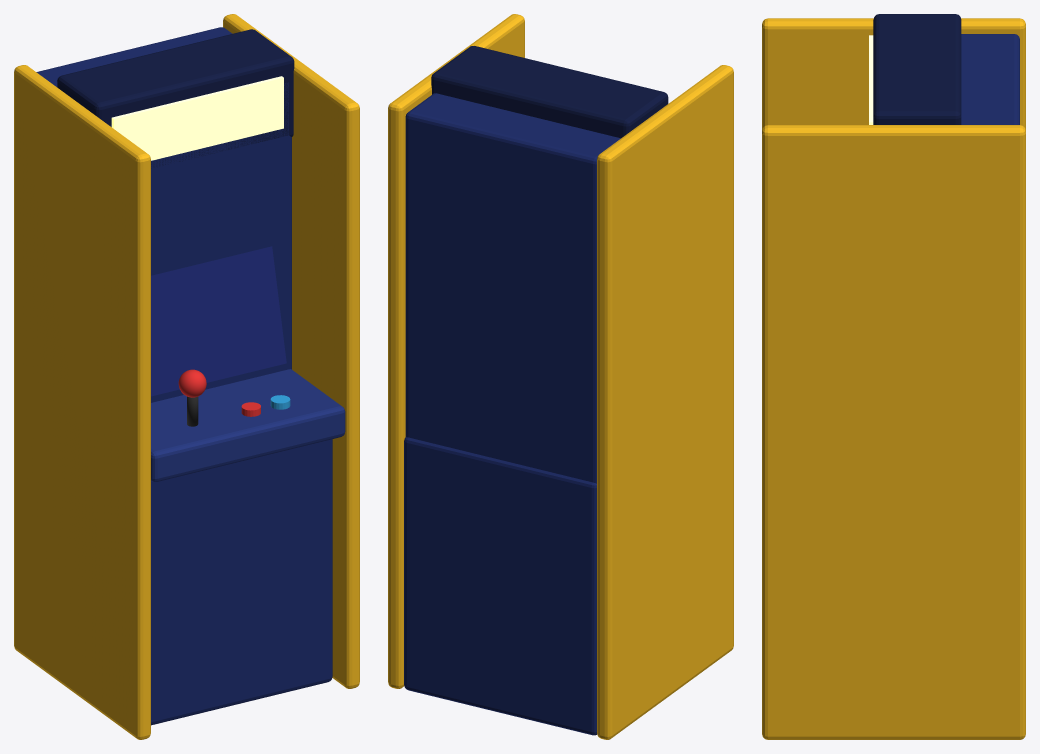
File: maquina_arcade.glb
3 views of the same model, side by side, from view 1: azimuth 30°, elevation 25°; view 2: azimuth 150°, elevation 25°; view 3: azimuth 270°, elevation 25° (orthographic). The views are drawn at different scales.
Visible parts, largest first — view 1: Cube, Cube.002, Cube.001, Cube.003, Plane, Cube.004, Cube.005, Cube.006, Sphere; view 2: Cube, Cube.003, Cube.002, Cube.001, Cube.005; view 3: Cube.001, Cube, Cube.005, Cube.003, Cube.006.
Boxes of the visible parts, x1,y1,x2,y2 form: Cube: (14, 65, 150, 739); Cube.002: (151, 439, 332, 725); Cube.001: (223, 14, 359, 688); Cube.003: (36, 27, 291, 402); Plane: (151, 246, 286, 396); Cube.004: (151, 369, 345, 481); Cube.005: (57, 29, 294, 168); Cube.006: (111, 76, 283, 160); Sphere: (178, 369, 206, 397); Cube: (597, 65, 733, 739); Cube.003: (405, 93, 620, 483); Cube.002: (404, 437, 597, 735); Cube.001: (388, 14, 524, 688); Cube.005: (431, 46, 668, 138); Cube.001: (762, 125, 1025, 739); Cube: (762, 18, 1025, 129); Cube.005: (873, 14, 961, 124); Cube.003: (961, 34, 1019, 124); Cube.006: (869, 35, 873, 124).
Size of the model in its own units: 0.92 by 2.34 by 0.9.
